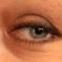eye: (30, 27, 46, 39)
